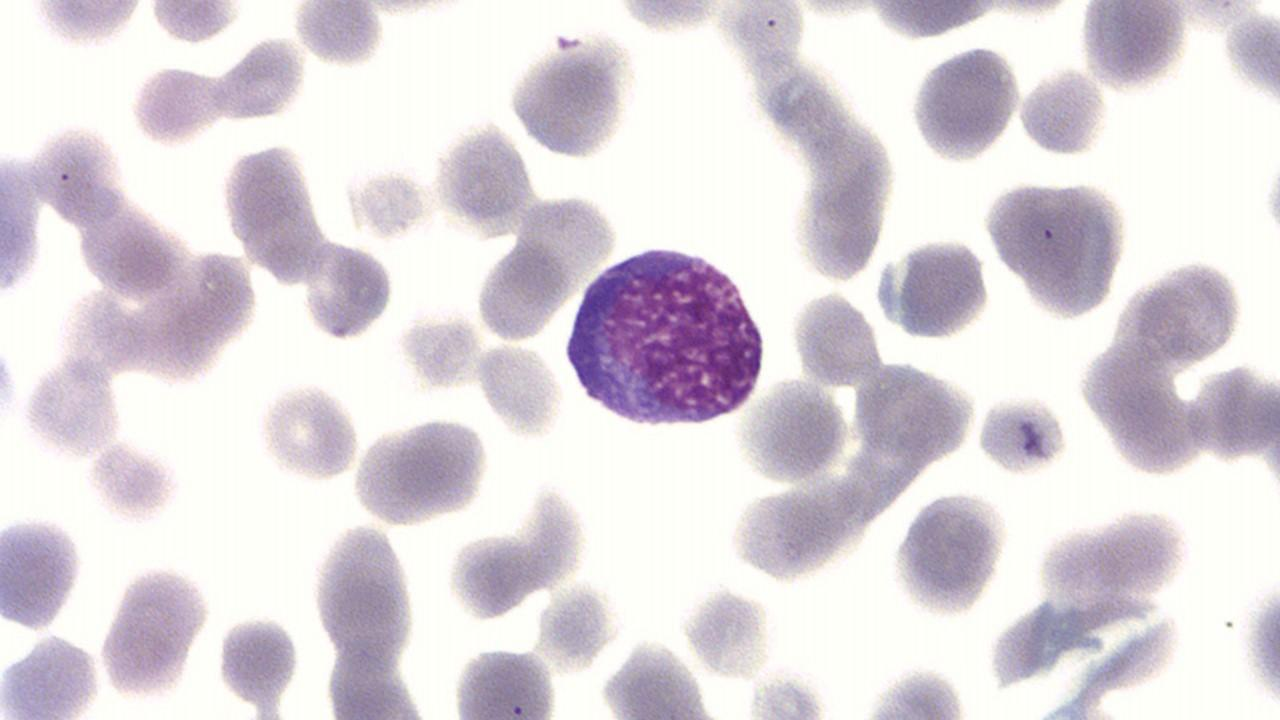RBC: (890, 492, 1004, 618), (907, 41, 1022, 164), (885, 233, 993, 341), (0, 511, 86, 632), (1074, 1, 1192, 89), (1076, 1, 1188, 85), (1, 630, 105, 718), (1018, 67, 1109, 160), (1240, 570, 1280, 716), (1240, 574, 1280, 716), (1223, 6, 1280, 104), (1259, 153, 1280, 244)
WBC: (559, 240, 770, 428)
